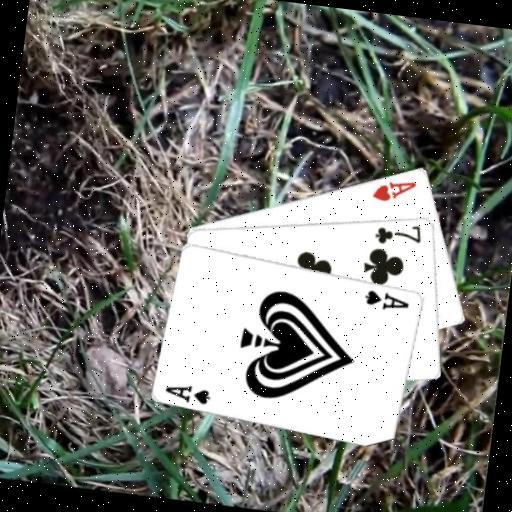7C: (372, 217, 425, 250)
AH: (369, 173, 419, 206)
AS: (161, 379, 214, 407), (361, 286, 412, 314)
